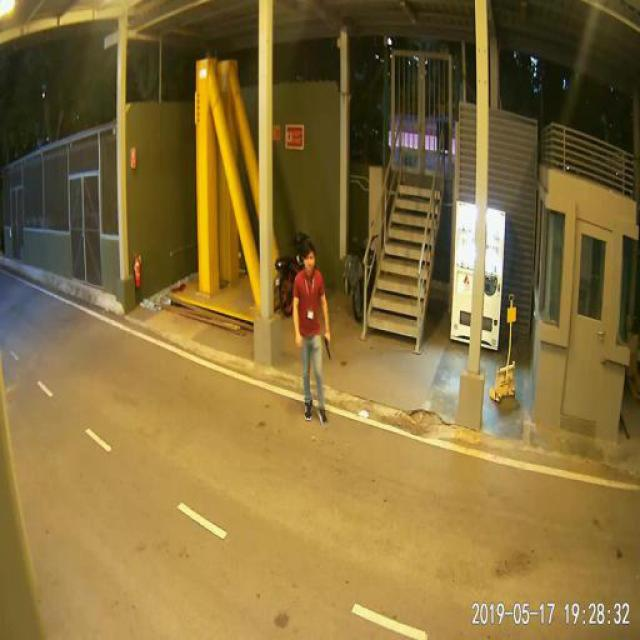weapon: (322, 333, 332, 361)
